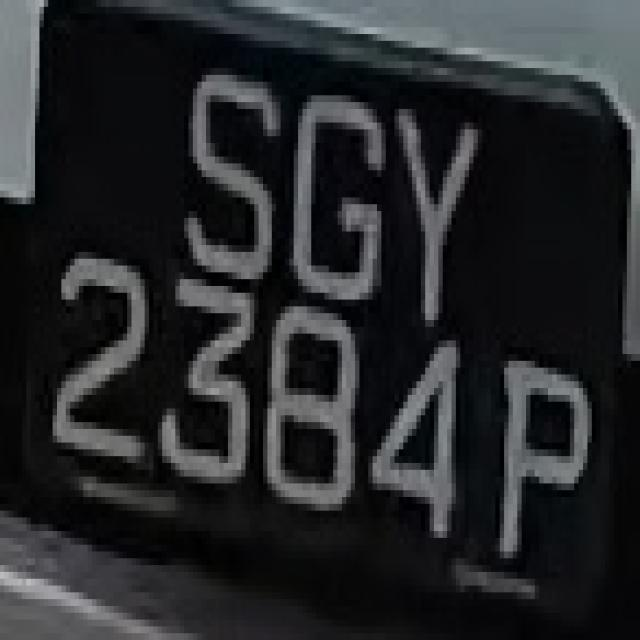2: (35, 232, 153, 497)
3: (166, 252, 258, 504)
4: (351, 306, 473, 531)
8: (259, 286, 368, 524)
G: (276, 61, 382, 320)
P: (486, 327, 600, 579)
S: (167, 41, 280, 293)
Y: (386, 95, 486, 314)
